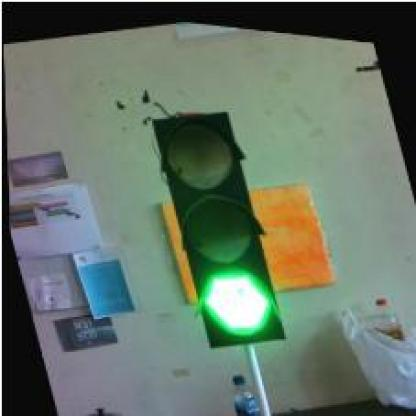green: (148, 95, 284, 352)
